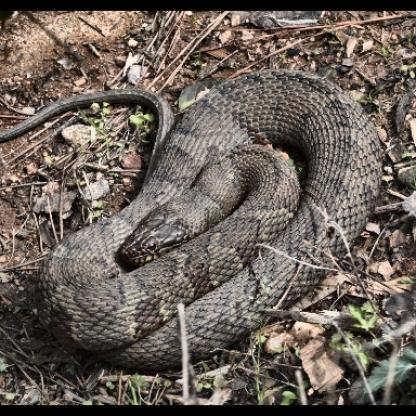Snake: (8, 67, 415, 362)
